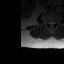CCS_normal: (50, 19, 52, 27)
LFS_normal: (54, 19, 56, 25)
LLS_normal: (52, 20, 54, 26)
RFS_normal: (47, 19, 49, 25)
RLS_normal: (49, 19, 50, 26)
